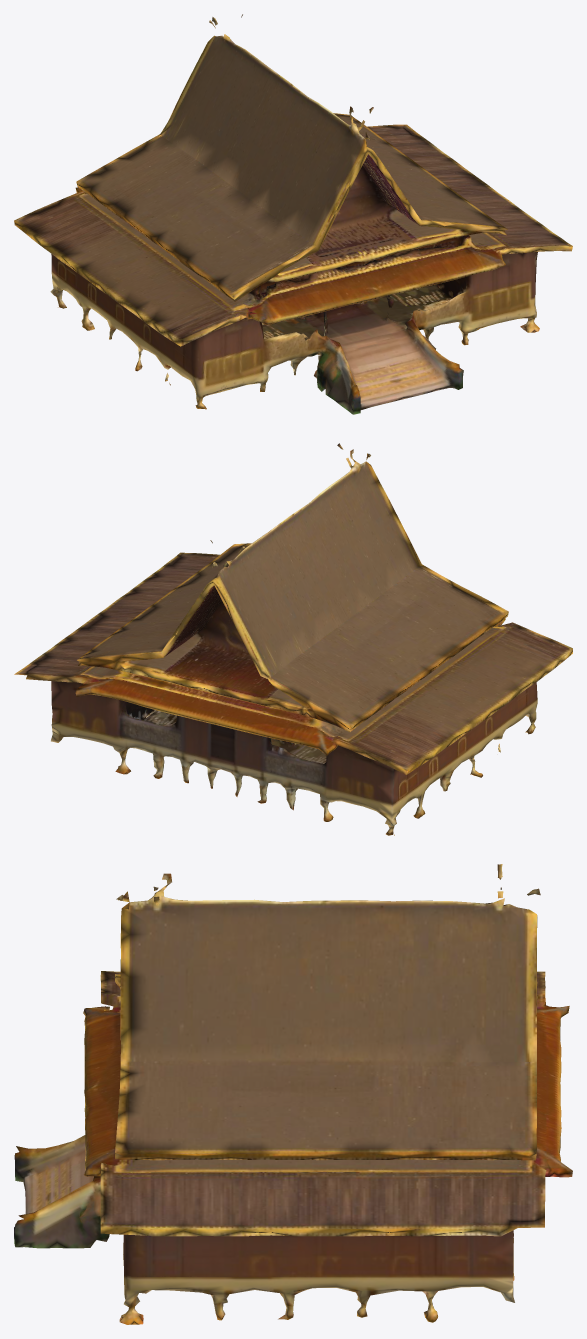
Rendered from adat_melayu.glb.
3 renders of one model, top to bottom at view 1: azimuth 30°, elevation 25°; view 2: azimuth 150°, elevation 25°; view 3: azimuth 270°, elevation 25°, orthographic. The views are drawn at different scales.
Parts seen in each view (by area): view 1: Mesh0; view 2: Mesh0; view 3: Mesh0.
Boxes of the visible parts, bbox=[...] form: Mesh0: bbox=[14, 14, 572, 414]; Mesh0: bbox=[14, 443, 572, 835]; Mesh0: bbox=[14, 864, 572, 1324].
Size of the model in its own units: 1.62 by 1 by 1.49.
1 material, 1 textured.
